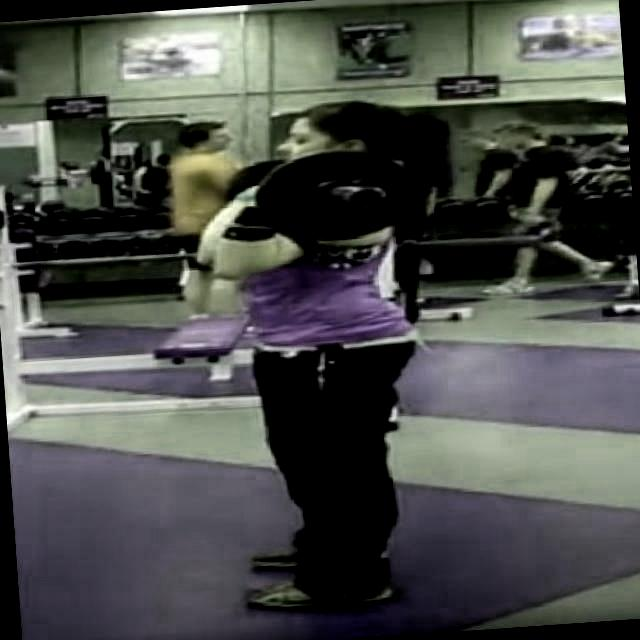barbell: (242, 136, 435, 258)
